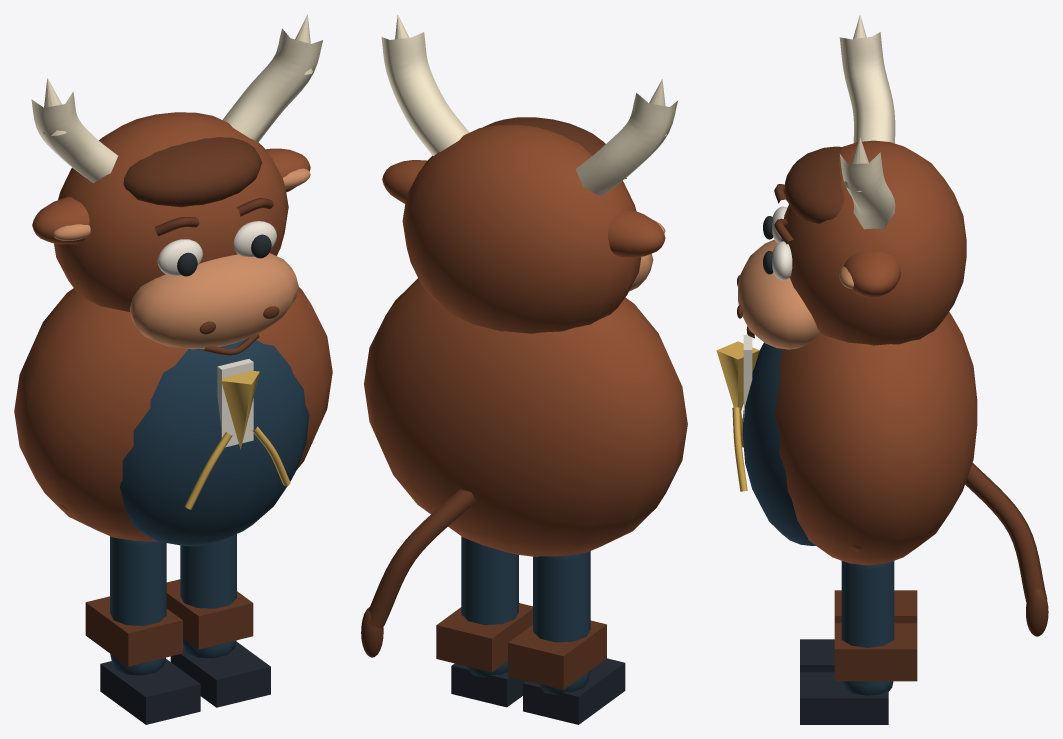
File: profile-jefferson.glb
The picture shows the model from 3 angles, left to right: view 1: azimuth 30°, elevation 25°; view 2: azimuth 150°, elevation 25°; view 3: azimuth 270°, elevation 25°; orthographic projection. The views are drawn at different scales.
Parts seen in each view (by area): view 1: bull-shoulders, tailored-vest, bull-head, broad-muzzle, curved-ivory-horn (×2), cloven-hoof (×2), forelock, left-leg-mesh, left-shoe, right-leg-mesh, right-shoe, bull-ear (×2) (+5 smaller); view 2: bull-shoulders, bull-head, curved-ivory-horn (×2), cloven-hoof (×2), left-leg-mesh, right-leg-mesh, left-shoe, bull-tail, bull-ear (×2), right-shoe, forelock, tail-tuft; view 3: bull-shoulders, bull-head, curved-ivory-horn (×2), tailored-vest, right-leg-mesh, broad-muzzle, cloven-hoof (×2), right-shoe, forelock, bull-tail, bull-ear, bull-market-tie (+5 smaller).
Part boxes in pixels (box(x1,y1,x2,y2)): bull-shoulders: box(14, 287, 332, 541); tailored-vest: box(120, 339, 309, 546); bull-head: box(54, 112, 288, 311); broad-muzzle: box(129, 253, 298, 349); curved-ivory-horn (×2): box(31, 28, 322, 183); cloven-hoof (×2): box(85, 579, 253, 666); forelock: box(123, 137, 261, 207); left-leg-mesh: box(110, 536, 166, 675); left-shoe: box(100, 659, 200, 724); right-leg-mesh: box(180, 534, 236, 658); right-shoe: box(170, 641, 270, 707); bull-ear (×2): box(32, 148, 310, 244); bull-shoulders: box(364, 278, 687, 556); bull-head: box(402, 124, 641, 333); curved-ivory-horn (×2): box(381, 32, 677, 196); cloven-hoof (×2): box(436, 603, 606, 689); left-leg-mesh: box(533, 551, 590, 695); right-leg-mesh: box(461, 536, 518, 677); left-shoe: box(523, 658, 625, 724); bull-tail: box(368, 489, 475, 628); bull-ear (×2): box(382, 160, 665, 257); right-shoe: box(451, 663, 525, 707); forelock: box(483, 117, 605, 155); tail-tuft: box(361, 607, 383, 657); bull-shoulders: box(775, 312, 977, 565); bull-head: box(781, 140, 966, 345); curved-ivory-horn (×2): box(839, 32, 895, 229); tailored-vest: box(742, 342, 815, 545); right-leg-mesh: box(841, 561, 894, 695); broad-muzzle: box(738, 239, 820, 349); cloven-hoof (×2): box(834, 590, 917, 681); right-shoe: box(800, 672, 888, 724); forelock: box(785, 146, 844, 223); bull-tail: box(965, 463, 1047, 603); bull-ear: box(844, 251, 901, 297); bull-market-tie: box(716, 341, 759, 413).
Bounding box in the file's own units: 1.69 × 3.48 × 1.69.
